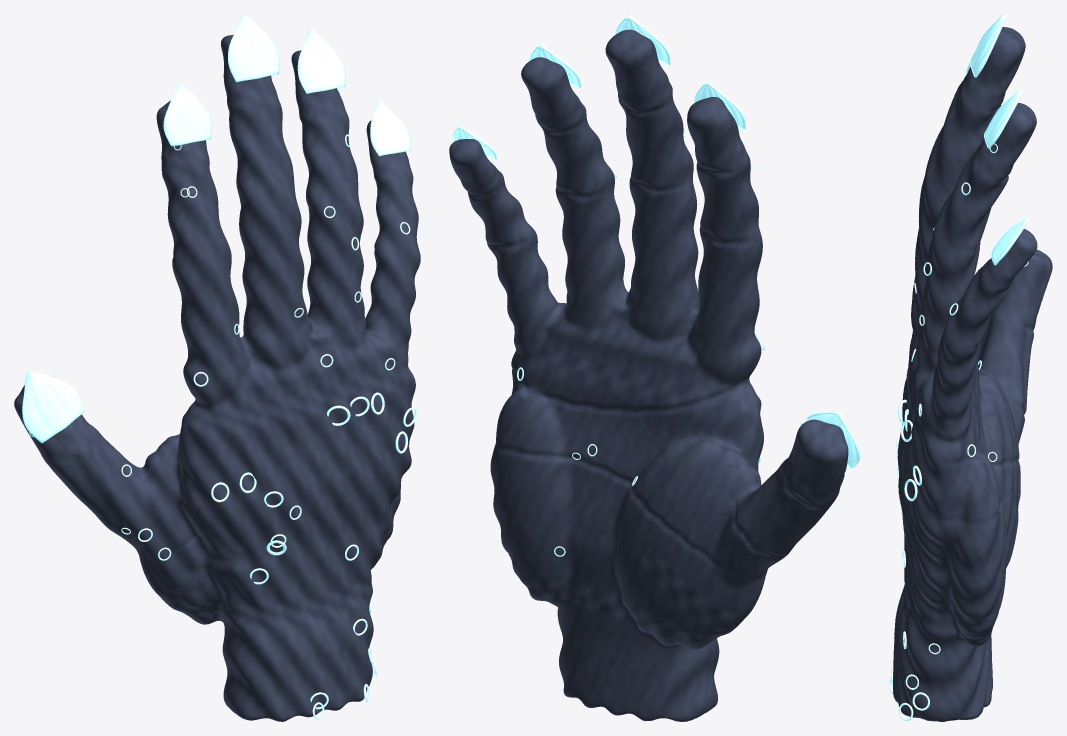
Rendered from family-17.glb.
3 renders of one model, left to right at view 1: azimuth 30°, elevation 25°; view 2: azimuth 150°, elevation 25°; view 3: azimuth 270°, elevation 25°, orthographic. The views are drawn at different scales.
Parts seen in each view (by area): view 1: fingers__fingers_sculpt, back_of_hand__back_of_hand_sculpt, wrist__wrist_sculpt, fingertips__fingertips_sculpt, nails__thumb_claw, nails__middle_claw, palm__palm_sculpt, nails__ring_claw, nails__index_claw, back_of_hand, nails__pinky_claw, fingers; view 2: fingers__fingers_sculpt, palm__palm_sculpt, wrist__wrist_sculpt, fingertips__fingertips_sculpt, nails__thumb_claw, nails__middle_claw, nails__index_claw; view 3: fingers__fingers_sculpt, palm__palm_sculpt, wrist__wrist_sculpt, back_of_hand__back_of_hand_sculpt, fingertips__fingertips_sculpt, nails__middle_claw, nails__ring_claw, back_of_hand, nails__pinky_claw, wrist, fingers.
Part boxes in pixels (x1,y1,x2,y2): fingers__fingers_sculpt: [43, 93, 420, 599]; back_of_hand__back_of_hand_sculpt: [181, 366, 415, 617]; wrist__wrist_sculpt: [172, 564, 375, 721]; fingertips__fingertips_sculpt: [14, 34, 410, 459]; nails__thumb_claw: [22, 370, 83, 443]; nails__middle_claw: [228, 14, 279, 82]; palm__palm_sculpt: [162, 410, 400, 610]; nails__ring_claw: [297, 28, 345, 93]; nails__index_claw: [163, 83, 211, 146]; back_of_hand: [211, 392, 416, 584]; nails__pinky_claw: [370, 99, 410, 156]; fingers: [121, 134, 410, 560]; fingers__fingers_sculpt: [463, 83, 839, 624]; palm__palm_sculpt: [490, 348, 759, 634]; wrist__wrist_sculpt: [521, 581, 730, 721]; fingertips__fingertips_sculpt: [449, 29, 848, 500]; nails__thumb_claw: [806, 411, 860, 469]; nails__middle_claw: [615, 14, 670, 65]; nails__index_claw: [694, 80, 746, 129]; fingers__fingers_sculpt: [907, 79, 1035, 505]; palm__palm_sculpt: [945, 362, 1018, 636]; wrist__wrist_sculpt: [893, 584, 992, 721]; back_of_hand__back_of_hand_sculpt: [897, 368, 947, 624]; fingertips__fingertips_sculpt: [964, 27, 1052, 322]; nails__middle_claw: [970, 14, 1006, 77]; nails__ring_claw: [984, 89, 1023, 148]; back_of_hand: [896, 399, 921, 567]; nails__pinky_claw: [991, 216, 1030, 265]; wrist: [889, 631, 940, 721]; fingers: [911, 182, 981, 416].
Bounding box in the file's own units: 0.1334 × 0.2229 × 0.0491.
2 materials, 1 textured.
